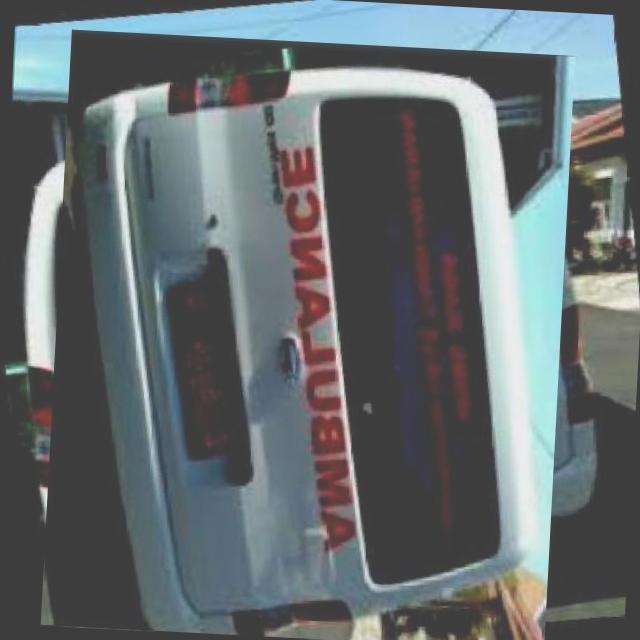emergency-vehicle: (13, 55, 601, 640)
